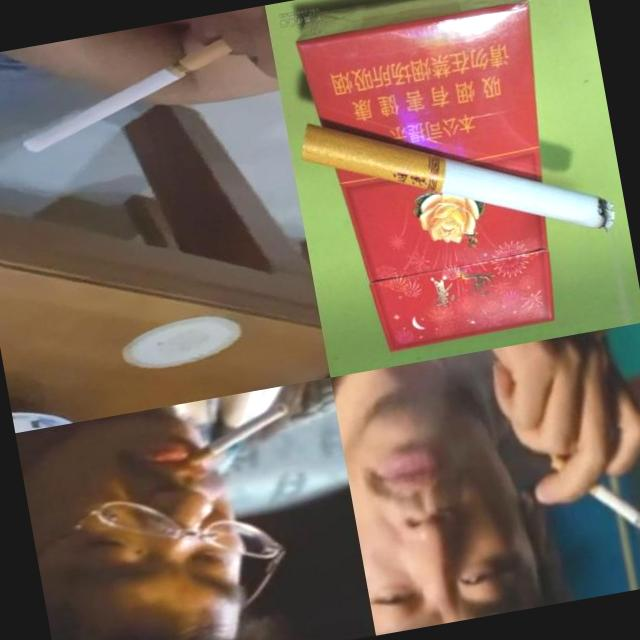cigarette: (294, 73, 618, 283), (9, 36, 242, 154), (549, 437, 640, 549), (178, 401, 296, 469)
